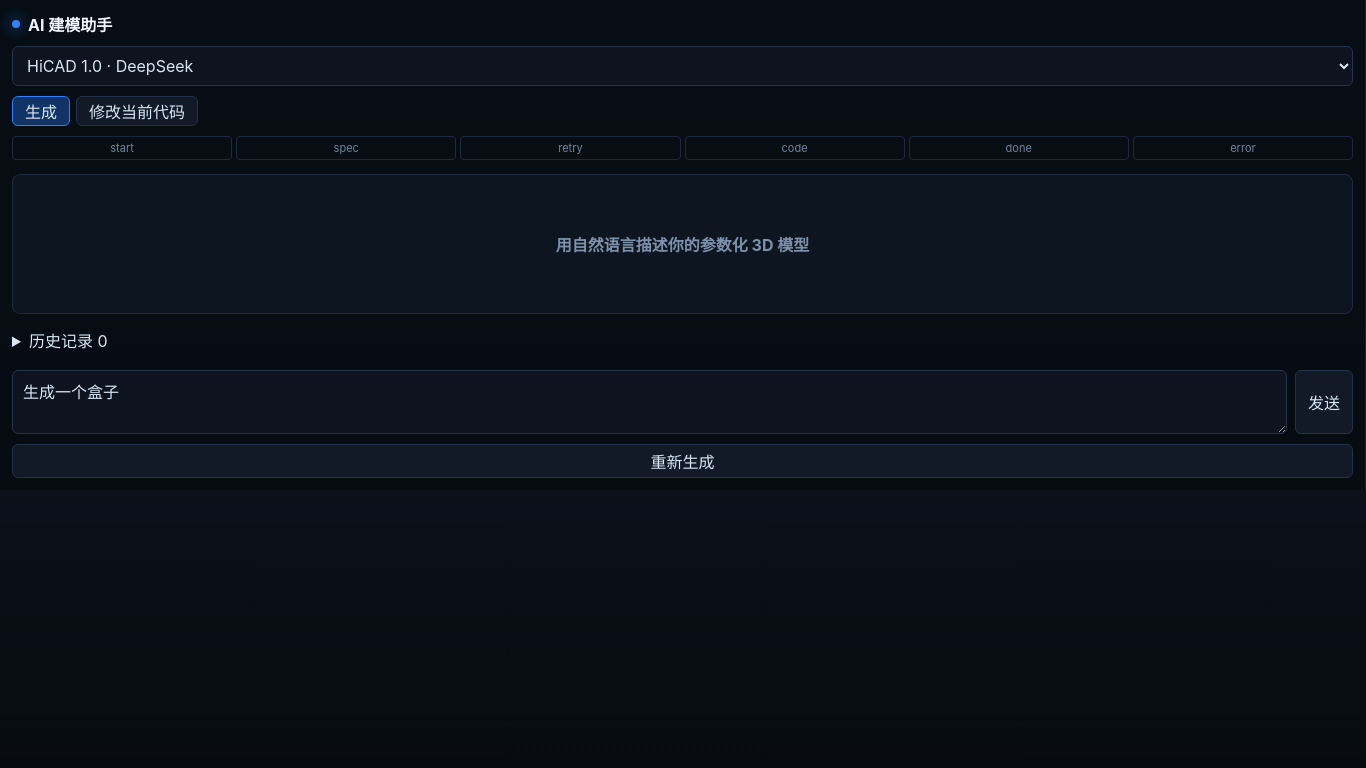
Scenario: P1 frontend components › AI panel merges stream events and exposes pending code for diff/apply
Click the button with aria-label "提交 AI 建模请求". click: coordinates (1324, 402)
box: [1295,370,1353,434]
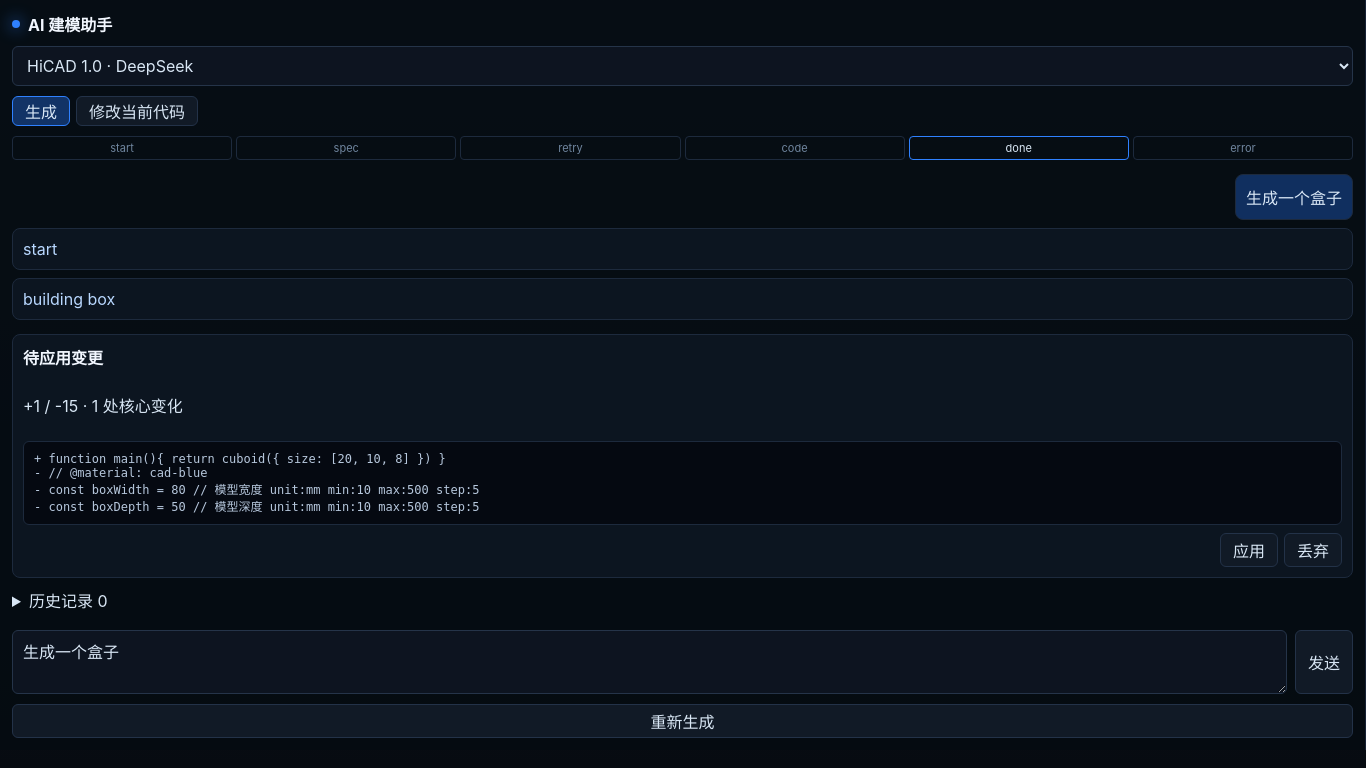
expect the text "待应用变更" is shown: met, box [23,348,103,368]
